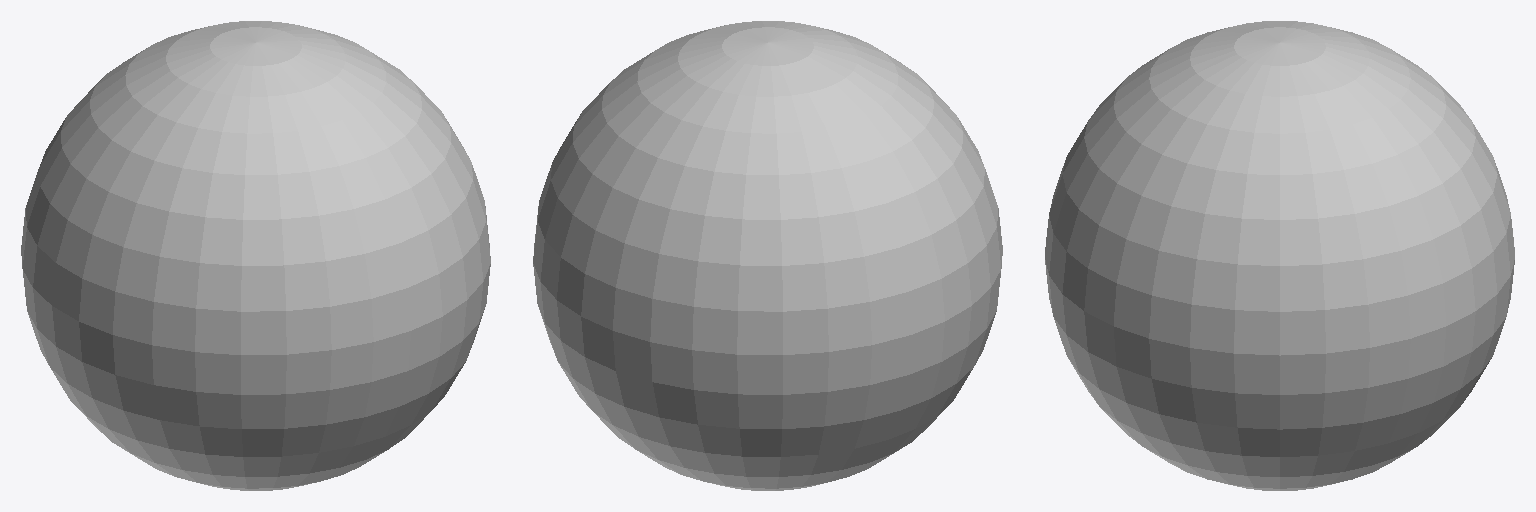
File: moon.obj
The picture shows the model from 3 angles: view 1: azimuth 30°, elevation 25°; view 2: azimuth 150°, elevation 25°; view 3: azimuth 270°, elevation 25°; orthographic projection.
Visible parts, largest first — view 1: Sphere; view 2: Sphere; view 3: Sphere.
Part boxes in pixels (left/top/right/bottom): Sphere: left=21, top=21, right=490, bottom=490; Sphere: left=533, top=21, right=1002, bottom=490; Sphere: left=1045, top=21, right=1514, bottom=490.
Size of the model in its own units: 2 by 2 by 2.